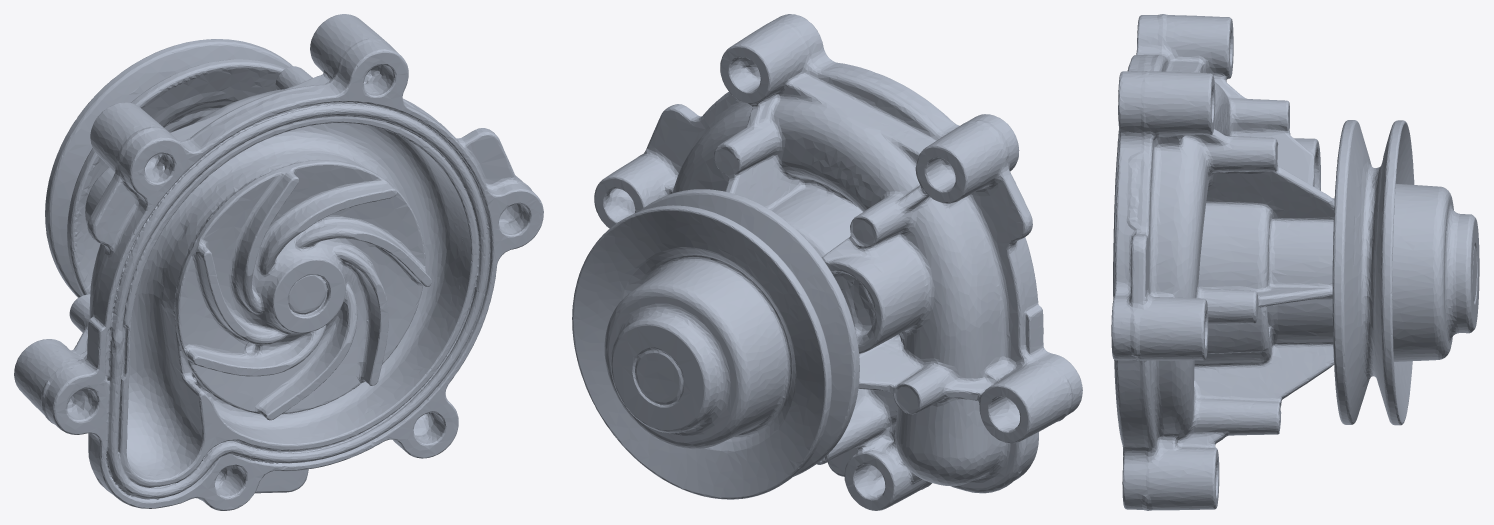
The model's file is spider-water-pump.glb.
3 renders of one model, left to right at view 1: azimuth 30°, elevation 25°; view 2: azimuth 150°, elevation 25°; view 3: azimuth 270°, elevation 25°, orthographic. The views are drawn at different scales.
Parts seen in each view (by area): view 1: geometry_0; view 2: geometry_0; view 3: geometry_0.
Boxes of the visible parts, x1,y1,x2,y2 form: geometry_0: [14, 14, 543, 510]; geometry_0: [572, 14, 1082, 510]; geometry_0: [1111, 14, 1479, 510].
Size of the model in its own units: 1 by 0.8839 by 0.696.
